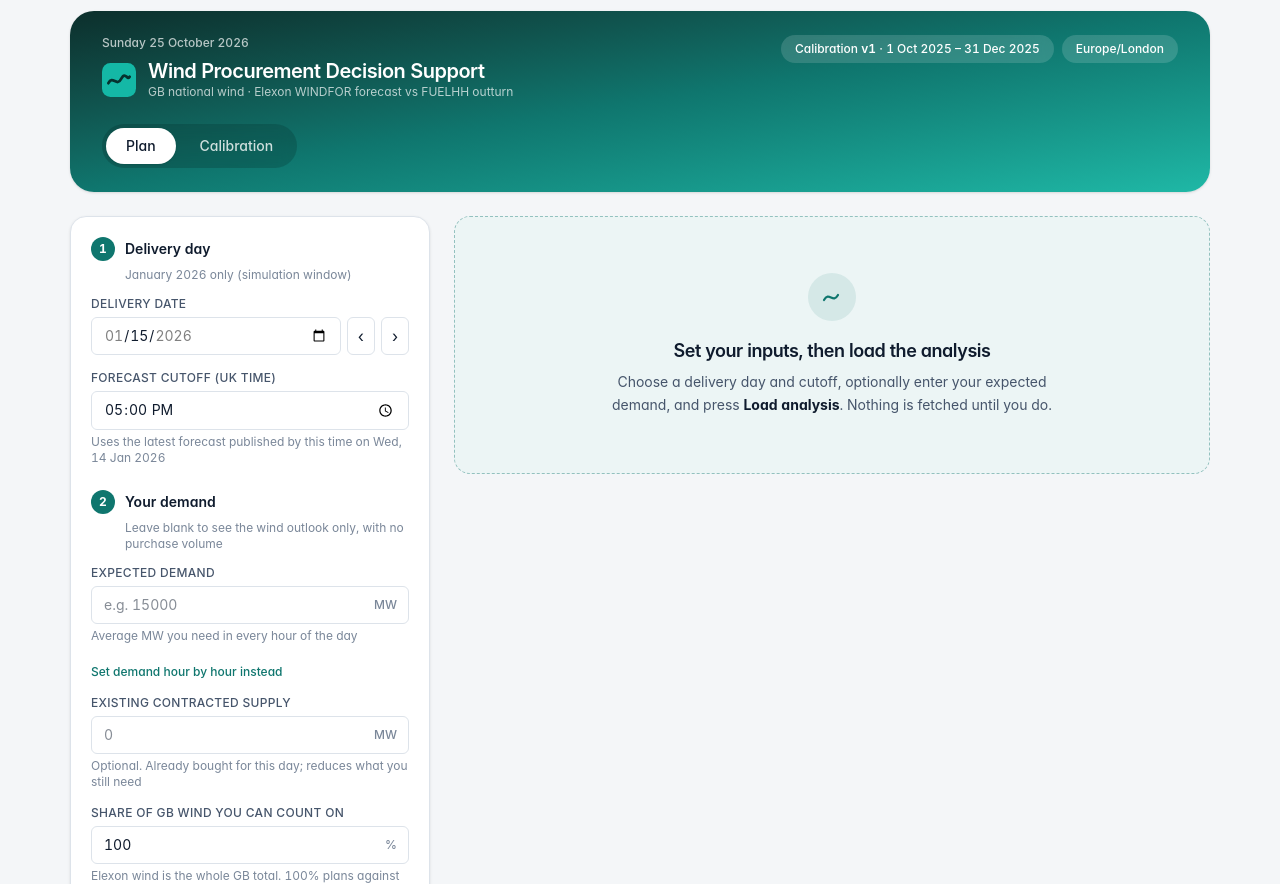
Scenario: Purchase plan › calculates nothing until demand is entered and Load analysis is pressed
Type "15000" into the field labelled "Expected demand" at (250, 605), box x1=91 y1=586 x2=409 y2=624
(page scrolled)
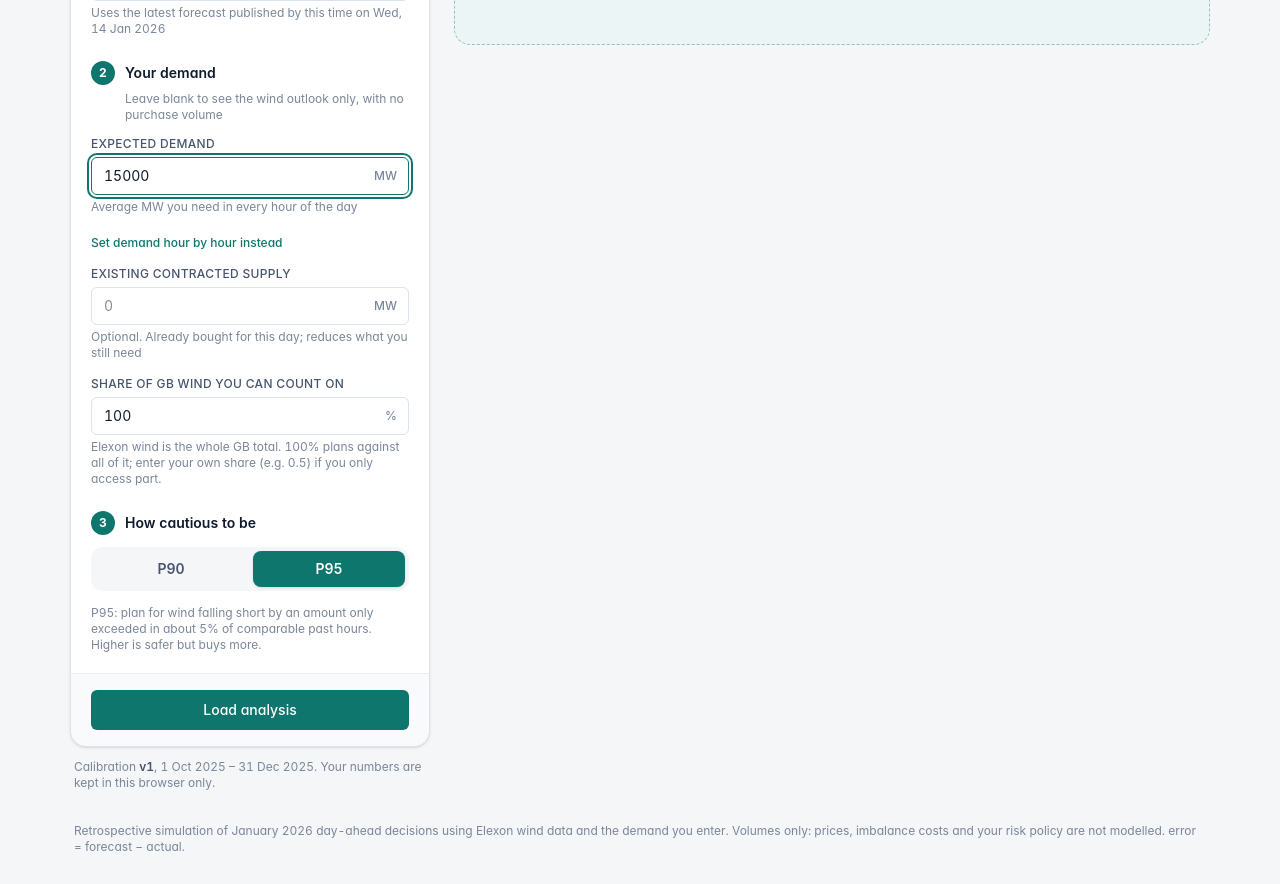
Click the button "Load analysis" at (250, 710), box x1=91 y1=690 x2=409 y2=730
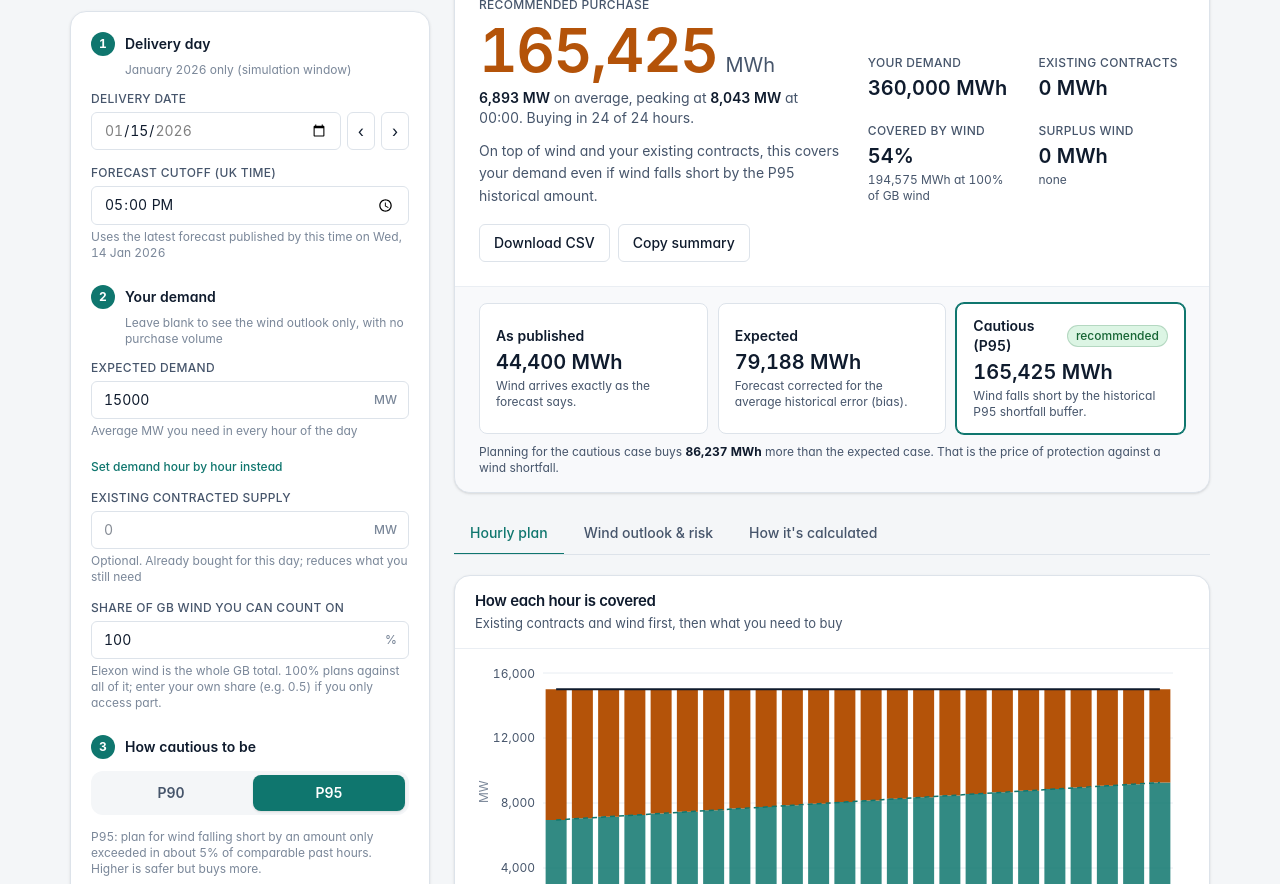
Expected: the text "165,425" is shown, x1=479 y1=20 x2=718 y2=80
